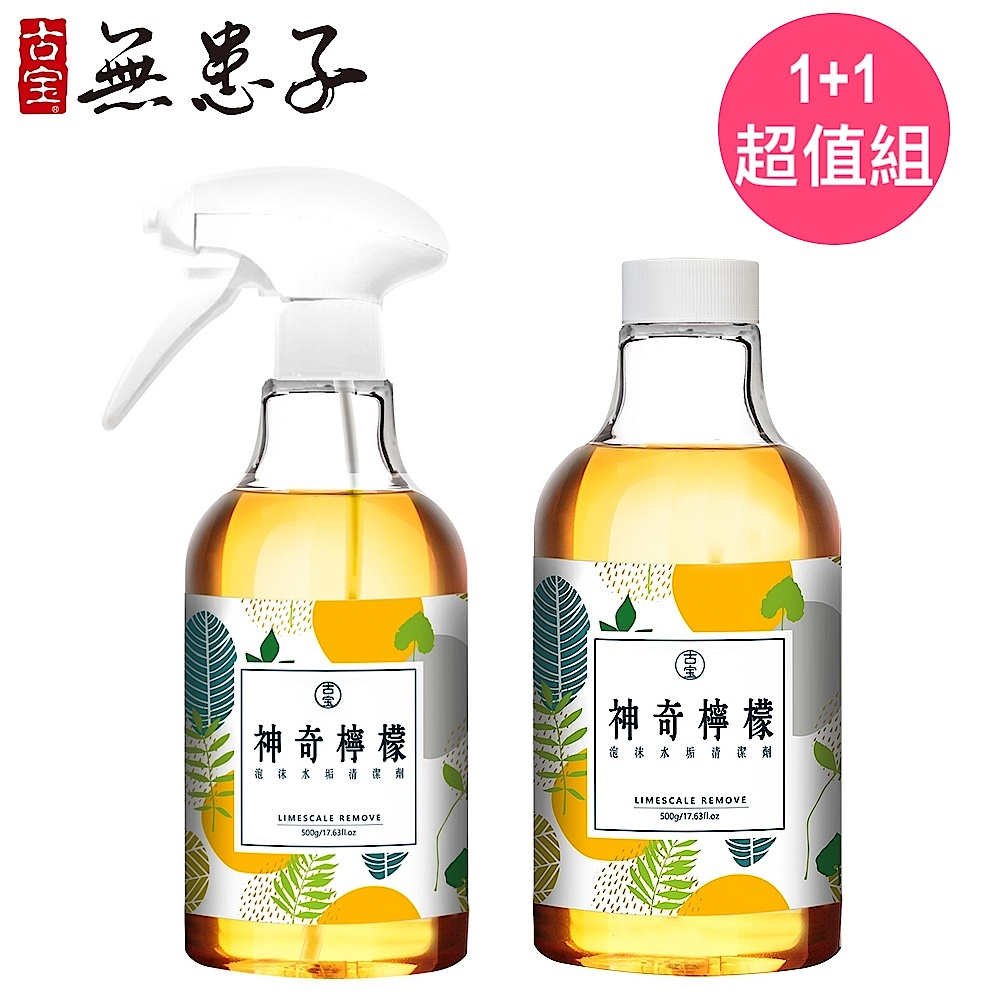cleaner: (76, 164, 488, 981), (507, 254, 858, 978)
